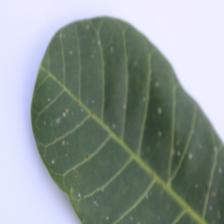red rust: (29, 14, 224, 223)
